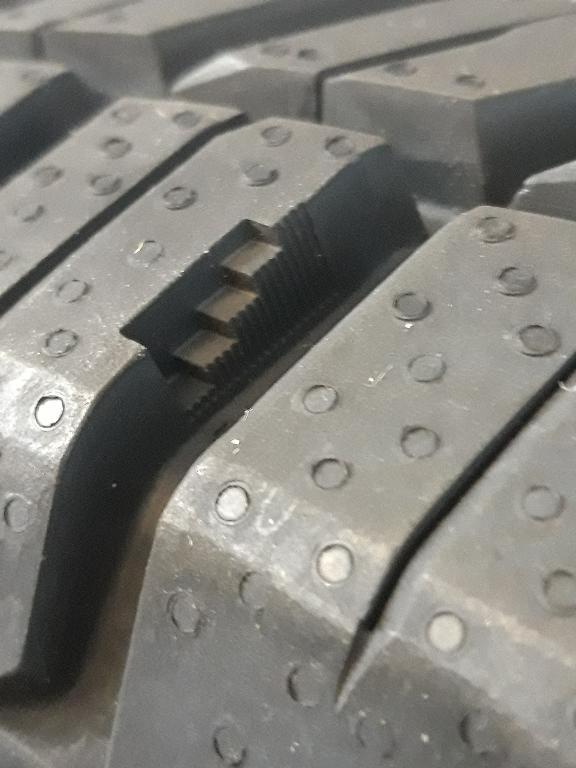temoin:100: (118, 205, 322, 425)
